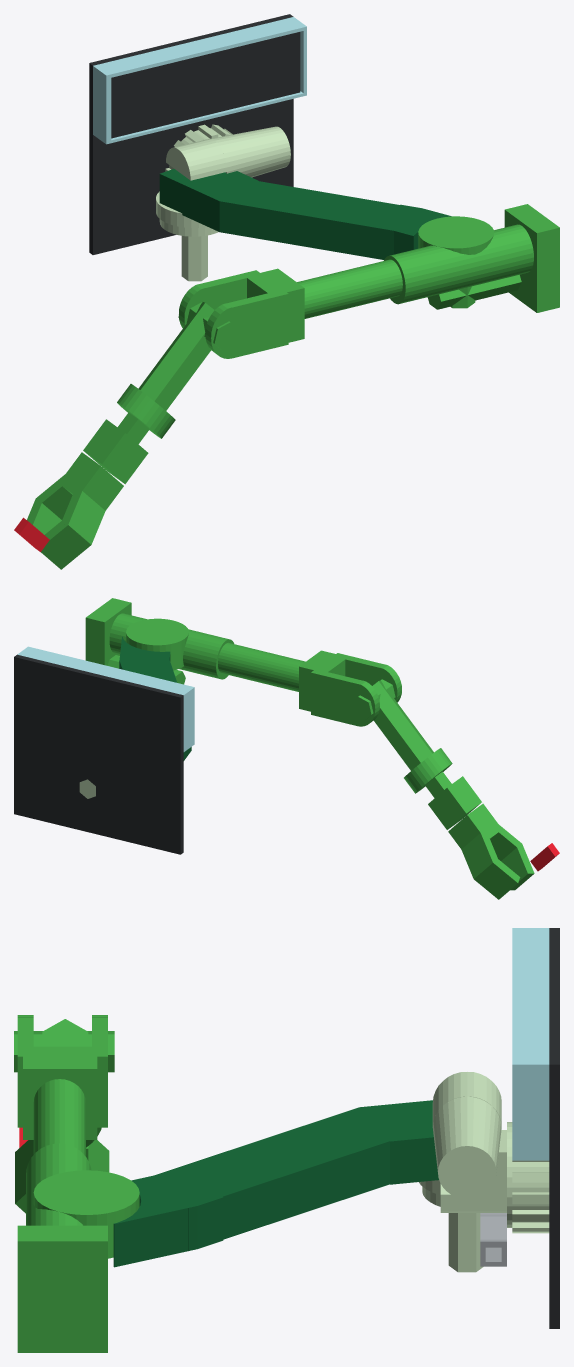
Rendered from tinker.obj.
The picture shows the model from 3 angles, top to bottom: view 1: azimuth 30°, elevation 25°; view 2: azimuth 150°, elevation 25°; view 3: azimuth 270°, elevation 25°; orthographic projection. The views are drawn at different scales.
Visible parts, largest first — view 1: group_0_4634441, group_0_2829873, group_0_1206582, group_0_13165757, group_0_11593967; view 2: group_0_2829873, group_0_4634441, group_0_11593967, group_0_1206582, group_0_15277357; view 3: group_0_4634441, group_0_1206582, group_0_13165757, group_0_11593967, group_0_2829873, group_0_10988977.
Part boxes in pixels (x1,y1,x2,y2): group_0_4634441: (27, 204, 559, 569); group_0_2829873: (89, 14, 300, 254); group_0_1206582: (159, 169, 451, 259); group_0_13165757: (156, 124, 290, 281); group_0_11593967: (93, 17, 306, 144); group_0_2829873: (14, 654, 183, 854); group_0_4634441: (85, 598, 534, 899); group_0_11593967: (17, 646, 194, 751); group_0_1206582: (119, 636, 191, 760); group_0_15277357: (530, 843, 559, 871); group_0_4634441: (14, 1015, 139, 1352); group_0_1206582: (113, 1100, 438, 1267); group_0_13165757: (419, 1072, 549, 1272); group_0_11593967: (512, 928, 549, 1160); group_0_2829873: (549, 928, 559, 1328); group_0_10988977: (480, 1213, 506, 1266).
Size of the model in its own units: 164 by 92 by 103.
